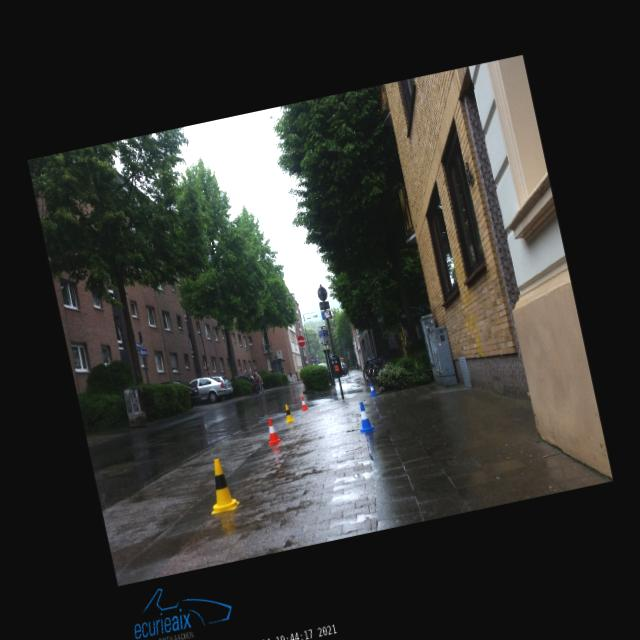blue_cone: (354, 400, 374, 432), (367, 382, 376, 396)
orange_cone: (262, 417, 280, 446), (299, 396, 308, 410)
yellow_cone: (200, 456, 240, 514), (282, 403, 294, 422)
